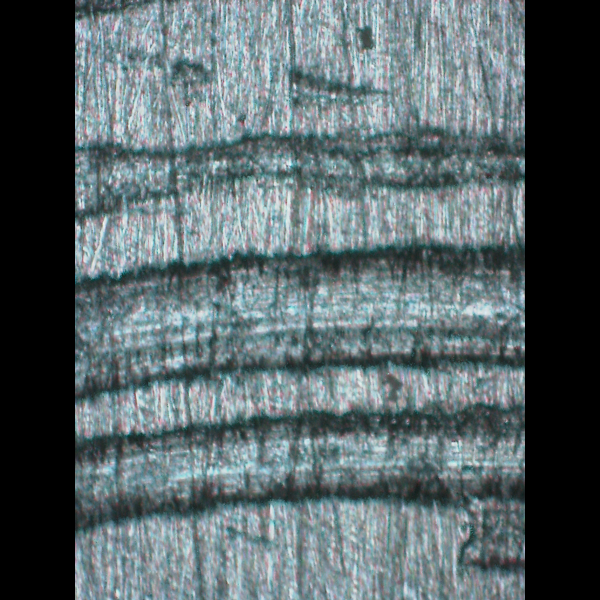d: (76, 96, 525, 554)
